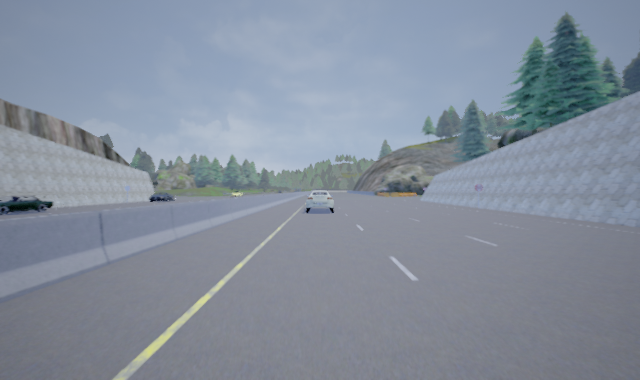vehicle: (1, 194, 53, 214), (305, 190, 334, 213), (149, 192, 176, 203)
